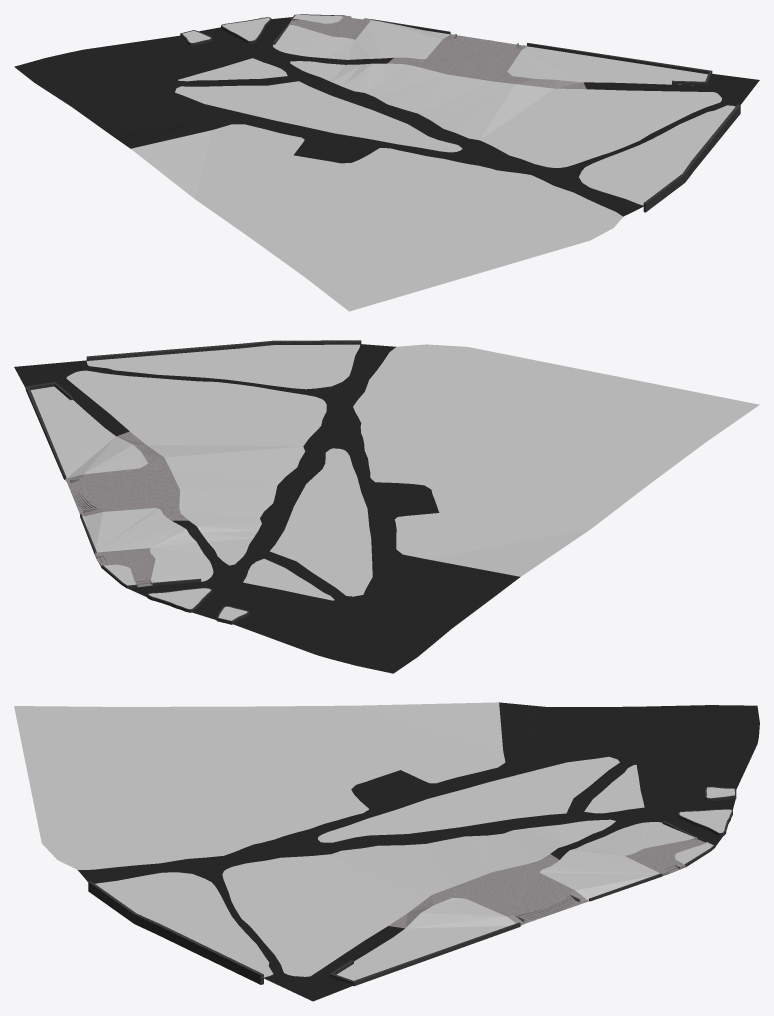
Rendered from park.dae.
3 renders of one model, top to bottom at view 1: azimuth 30°, elevation 25°; view 2: azimuth 150°, elevation 25°; view 3: azimuth 270°, elevation 25°, orthographic. The views are drawn at different scales.
Visible parts, largest first — view 1: Plane; view 2: Plane; view 3: Plane.
Boxes of the visible parts, left/top/right/bottom form: Plane: left=14, top=14, right=759, bottom=311; Plane: left=14, top=340, right=759, bottom=673; Plane: left=14, top=702, right=759, bottom=1001.
Size of the model in its own units: 127 by 135 by 2.02.
